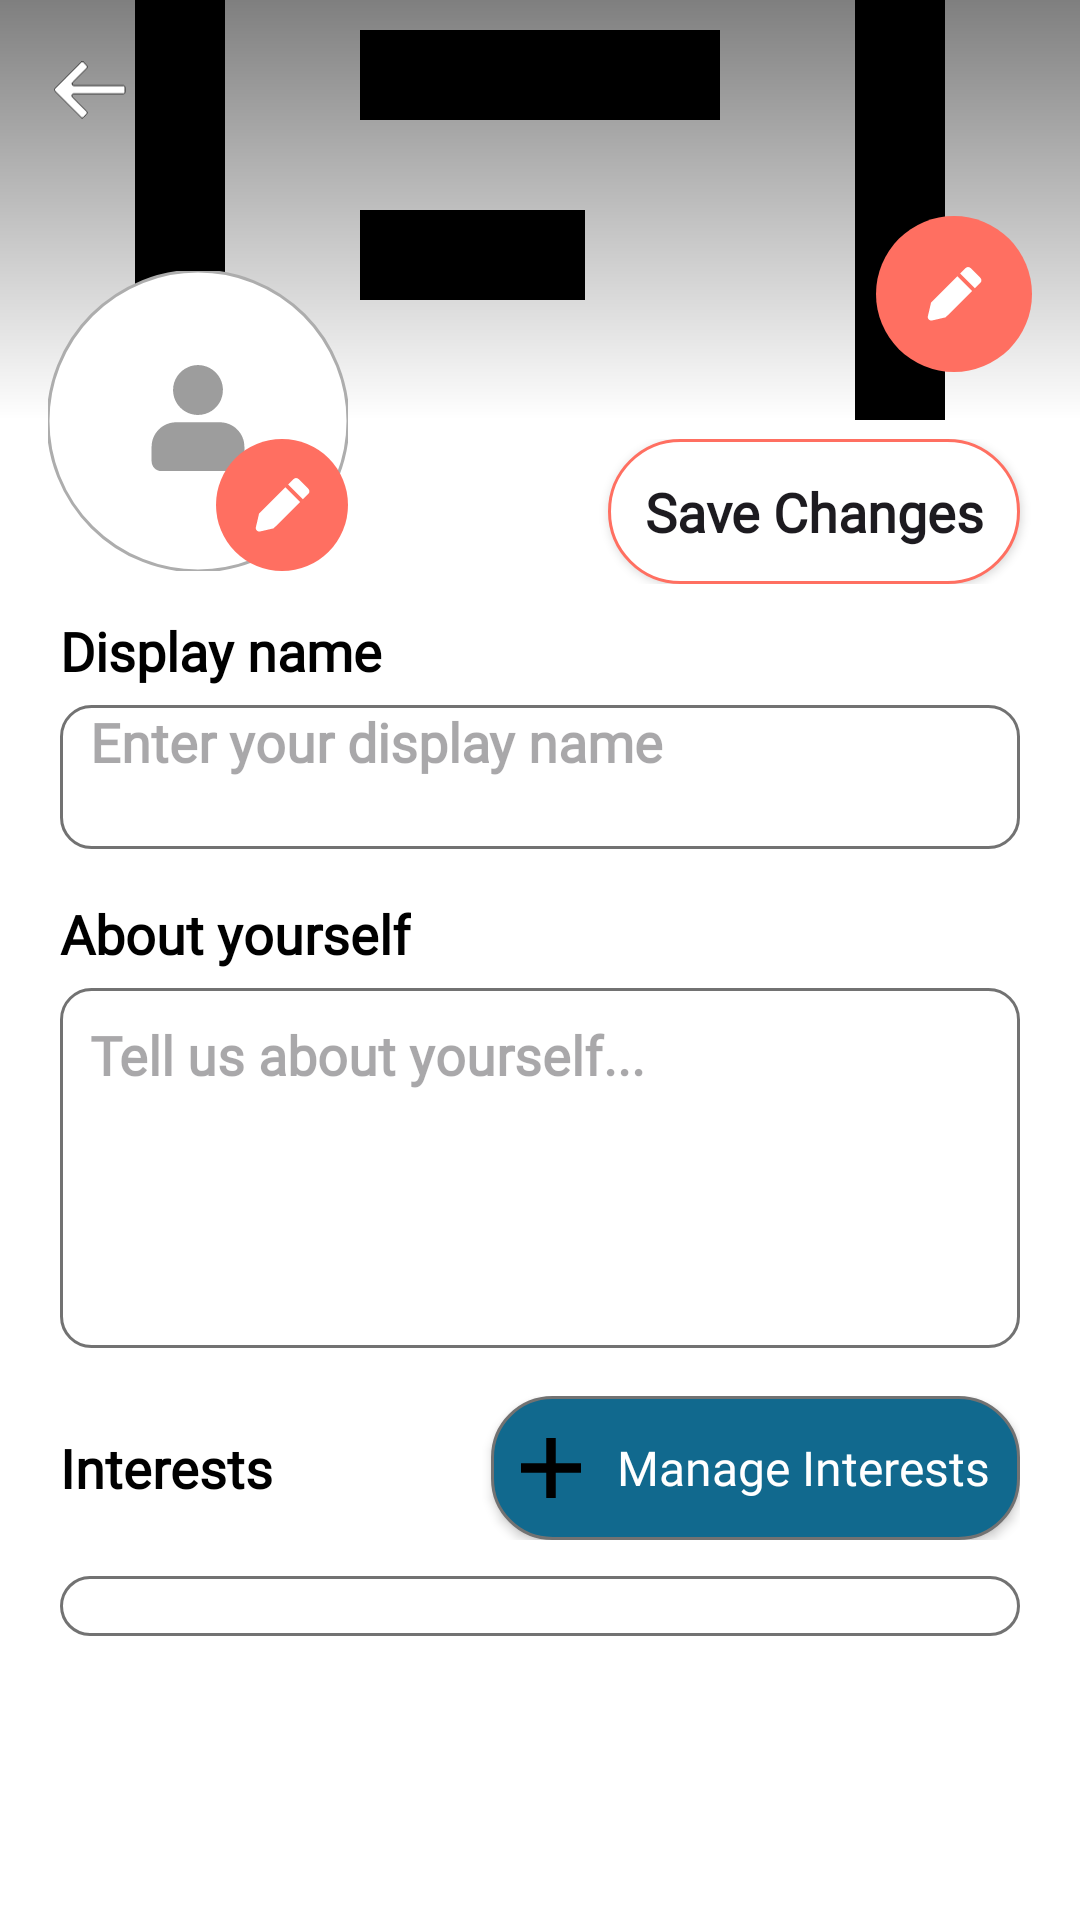

Point at icon controls on the screen. Image size 1080 x 1920, points as (x,y).
backbtn: (90,90)
